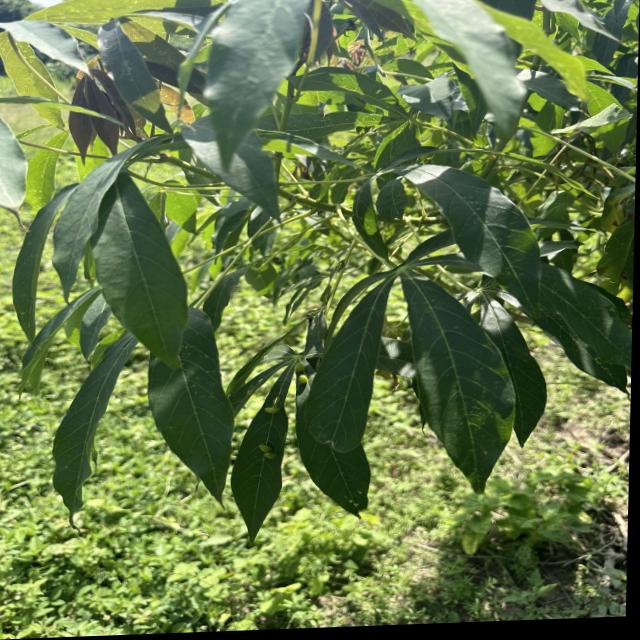Maleza: (0, 529, 366, 619), (457, 496, 640, 579)
Mosca: (255, 392, 288, 429), (249, 439, 285, 471), (289, 372, 321, 399)
